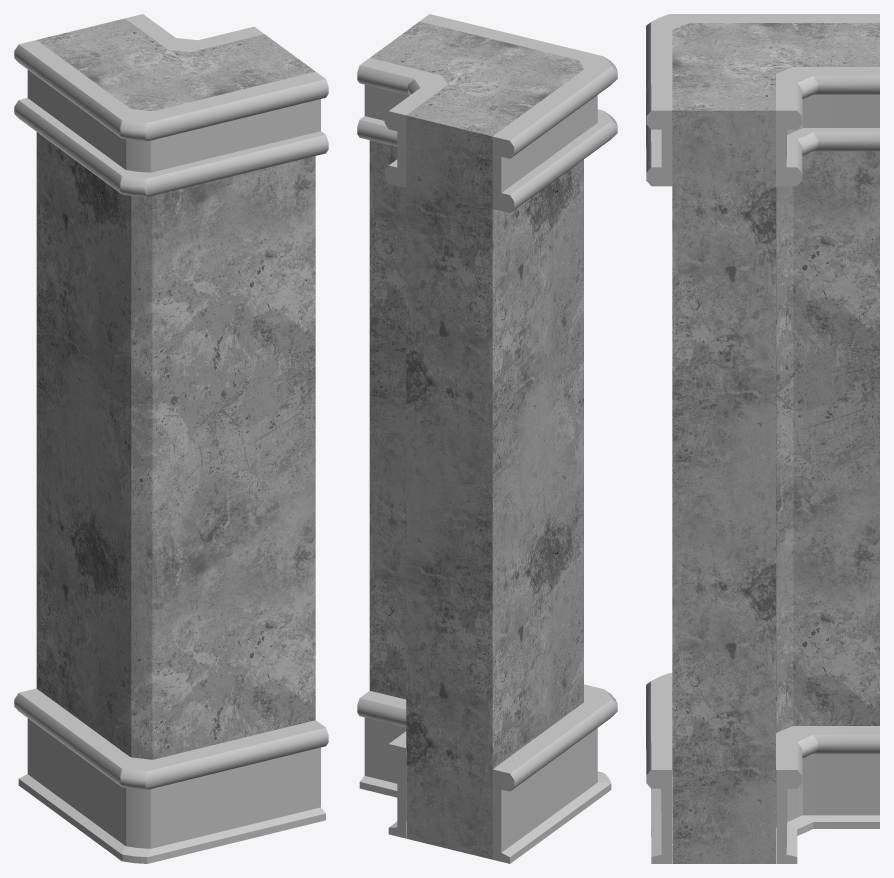
Rendered from SM_Wallkit_Corner_01a.fbx.
3 renders of one model, left to right at view 1: azimuth 30°, elevation 25°; view 2: azimuth 150°, elevation 25°; view 3: azimuth 270°, elevation 25°, orthographic. The views are drawn at different scales.
Visible parts, largest first — view 1: SM_Wallkit_Corner_01a_LOD0; view 2: SM_Wallkit_Corner_01a_LOD0; view 3: SM_Wallkit_Corner_01a_LOD0.
Boxes of the visible parts, x1,y1,x2,y2 form: SM_Wallkit_Corner_01a_LOD0: (14, 14, 328, 863); SM_Wallkit_Corner_01a_LOD0: (357, 14, 617, 863); SM_Wallkit_Corner_01a_LOD0: (646, 14, 879, 863).
Bounding box in the file's own units: 225 × 225 × 800.
